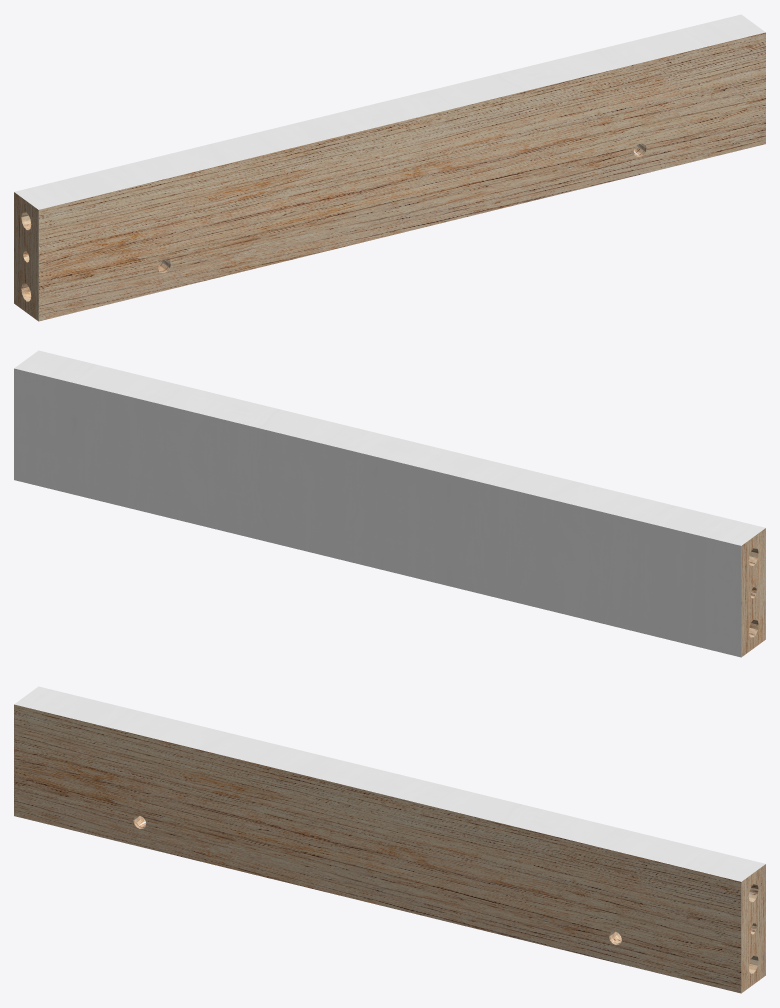
The model's file is Ikea_stefan_long.obj.
3 views of the same model, one above another, from view 1: azimuth 30°, elevation 25°; view 2: azimuth 150°, elevation 25°; view 3: azimuth 330°, elevation 25° (orthographic).
Visible parts, largest first — view 1: Ikea_Stefan_Long; view 2: Ikea_Stefan_Long; view 3: Ikea_Stefan_Long.
Boxes of the visible parts, bbox=[...] form: Ikea_Stefan_Long: bbox=[14, 14, 765, 321]; Ikea_Stefan_Long: bbox=[14, 350, 765, 657]; Ikea_Stefan_Long: bbox=[14, 686, 765, 993].
Bounding box in the file's own units: 0.341 × 0.05 × 0.02.
